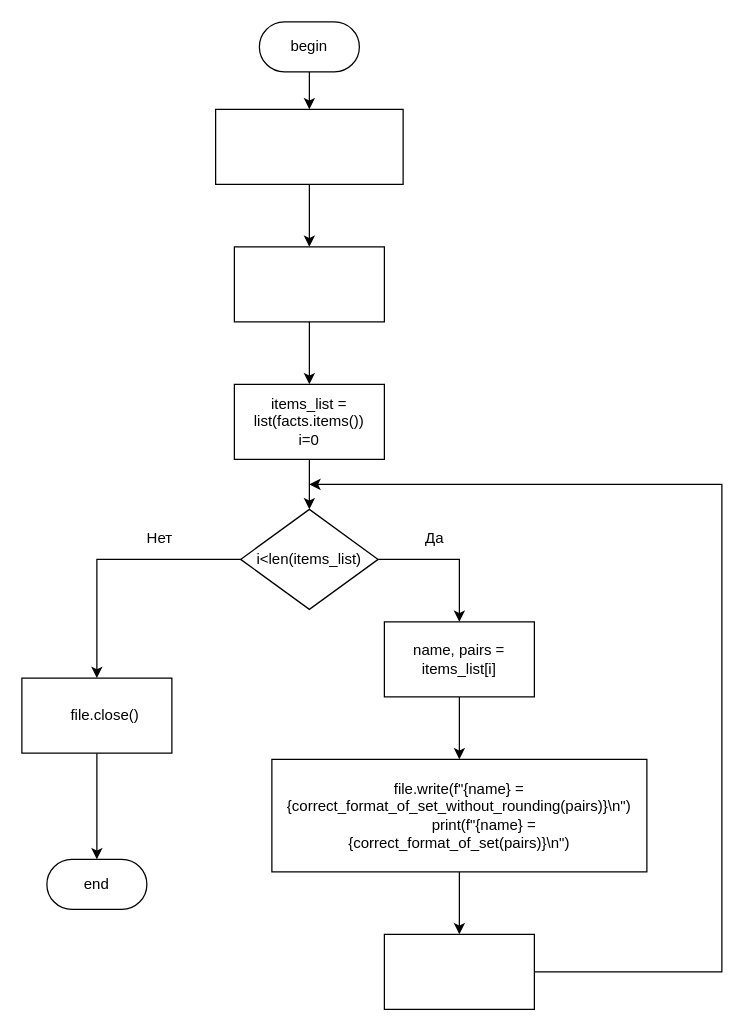
Some shapes in this 754 by 1031 pixel diagram are drawn without their labels. Here are the shapes that lost their labels. From the top down, the centre of each, then its label:
point (308, 146): name, ext = file_name.split('.') out_file = f"{name}_result.{ext}"
point (308, 284): f = open(out_file, 'w', encoding='utf-8')
point (458, 971): i++
